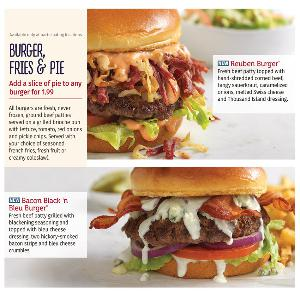cheeseburger: (94, 166, 281, 284), (88, 10, 210, 155)
